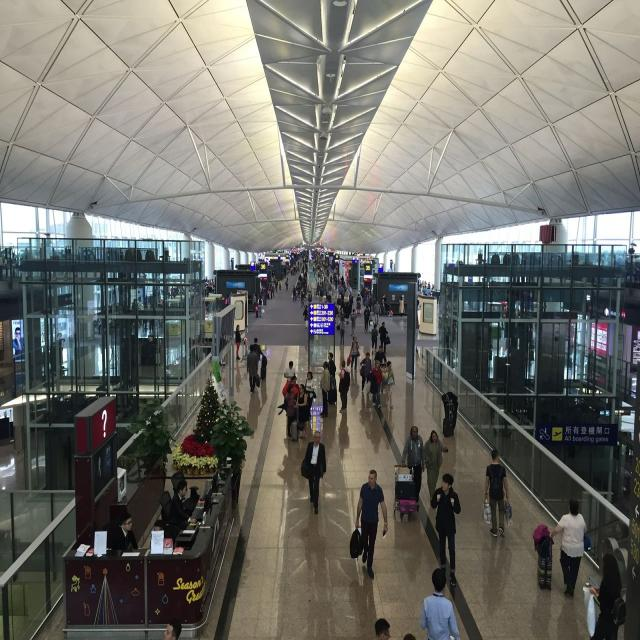body: (126, 272, 216, 332), (260, 244, 364, 293), (348, 468, 388, 580), (581, 553, 627, 639), (429, 472, 462, 587), (550, 498, 588, 597), (419, 567, 463, 639), (481, 446, 513, 538), (482, 533, 514, 612), (403, 509, 435, 576), (400, 426, 426, 506), (303, 499, 327, 584), (423, 429, 449, 504), (305, 431, 327, 516), (359, 406, 395, 454), (168, 479, 198, 532), (278, 436, 302, 492), (356, 564, 378, 625), (555, 594, 581, 640), (372, 616, 416, 639), (112, 513, 138, 550), (294, 384, 310, 439), (243, 393, 262, 439), (366, 359, 382, 412), (441, 390, 459, 432), (246, 344, 260, 396), (304, 371, 318, 423), (318, 359, 330, 419), (284, 383, 296, 440), (337, 414, 351, 460), (359, 352, 373, 396), (338, 360, 349, 415), (442, 434, 458, 471), (384, 360, 396, 408), (346, 335, 360, 373), (416, 274, 436, 299), (151, 516, 167, 545), (252, 336, 264, 374), (162, 618, 182, 640), (377, 320, 389, 354), (233, 361, 245, 394), (327, 351, 337, 390), (373, 344, 388, 369), (283, 359, 296, 382), (363, 305, 373, 333), (260, 378, 270, 406), (235, 323, 242, 361), (338, 317, 346, 348), (371, 322, 379, 352), (350, 308, 358, 337), (290, 375, 300, 398), (373, 300, 381, 325), (397, 295, 405, 318), (344, 299, 350, 325), (257, 296, 264, 318), (304, 304, 311, 326), (336, 294, 342, 318), (381, 293, 387, 316), (360, 286, 367, 305), (228, 291, 234, 313), (303, 307, 309, 329), (225, 292, 231, 313), (345, 293, 354, 307), (381, 363, 388, 380), (300, 289, 306, 308), (252, 293, 257, 314), (338, 346, 346, 359), (367, 295, 373, 312), (356, 293, 362, 310), (291, 287, 297, 303), (339, 306, 345, 322), (319, 288, 325, 304), (326, 293, 332, 307), (308, 290, 312, 303)
